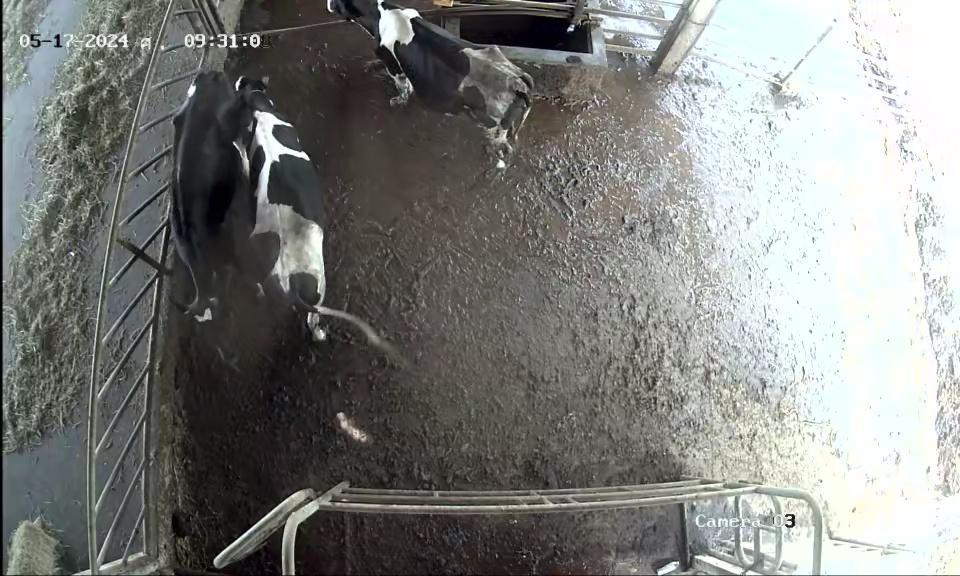stand: (326, 0, 543, 178), (229, 68, 362, 353), (167, 64, 248, 352)
